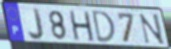7: (117, 12, 137, 45)
8: (48, 10, 69, 42)
D: (91, 9, 117, 44)
H: (68, 11, 97, 43)
J: (27, 7, 46, 42)
N: (138, 13, 167, 46)
